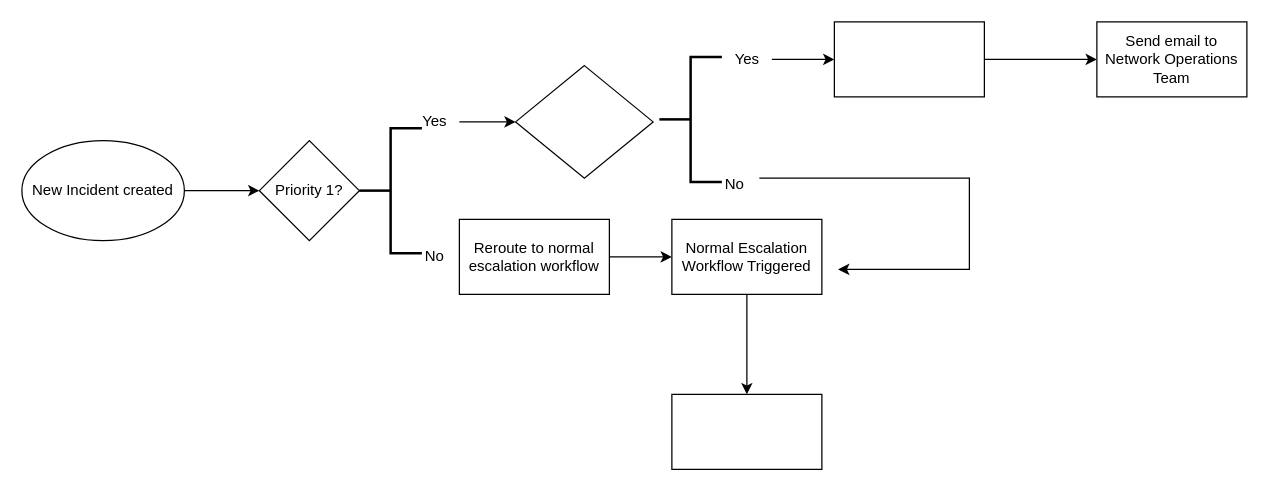
This 1269x491 diagram has some shape labels left out. Each missing label, with the centre of its shape:
"Categories is Network" belongs at point 583,121.
"Critical Network flow Triggered" belongs at point 908,59.
"Email sent to normal escalation Team" belongs at point 746,431.
